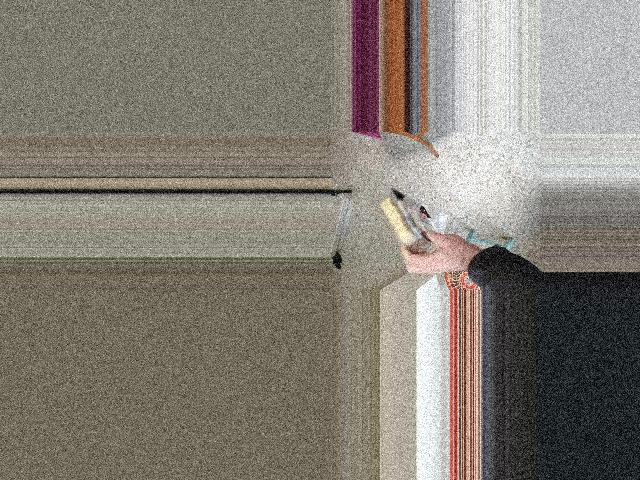cheese: (367, 175, 453, 283)
